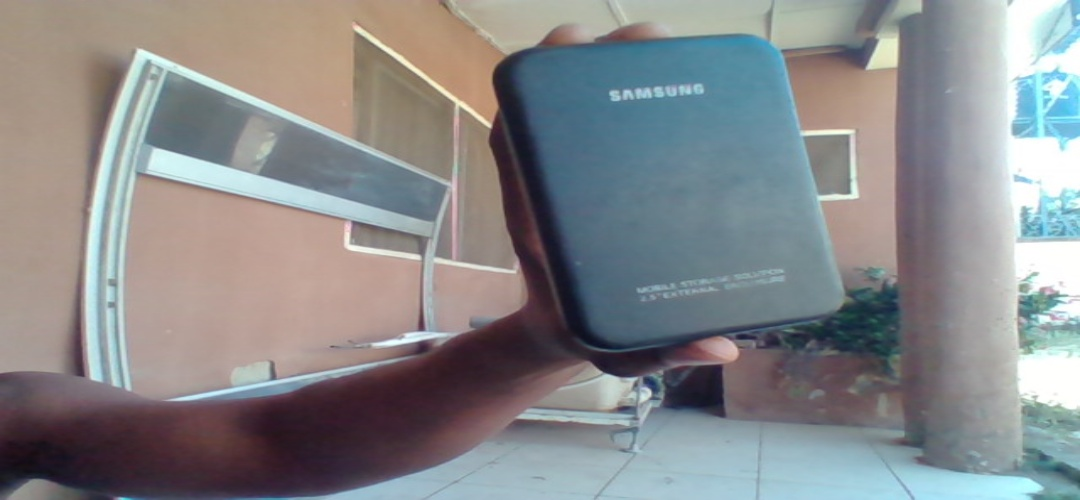hard_disk_case: (502, 42, 848, 347)
